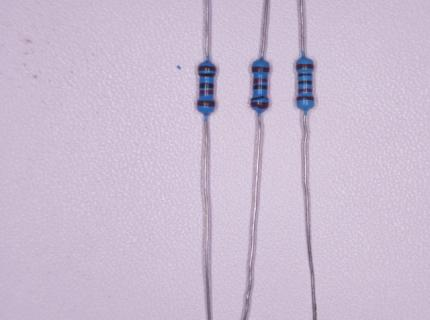Black band: (251, 95, 269, 101), (199, 83, 214, 89), (253, 85, 267, 90), (298, 80, 312, 85), (199, 73, 215, 77), (298, 73, 312, 77)
Brown band: (197, 100, 216, 107), (251, 102, 269, 108), (252, 66, 269, 72), (295, 64, 314, 69), (198, 66, 216, 71), (297, 96, 314, 101)
Red band: (253, 78, 268, 84), (298, 88, 313, 93), (200, 90, 214, 94)
